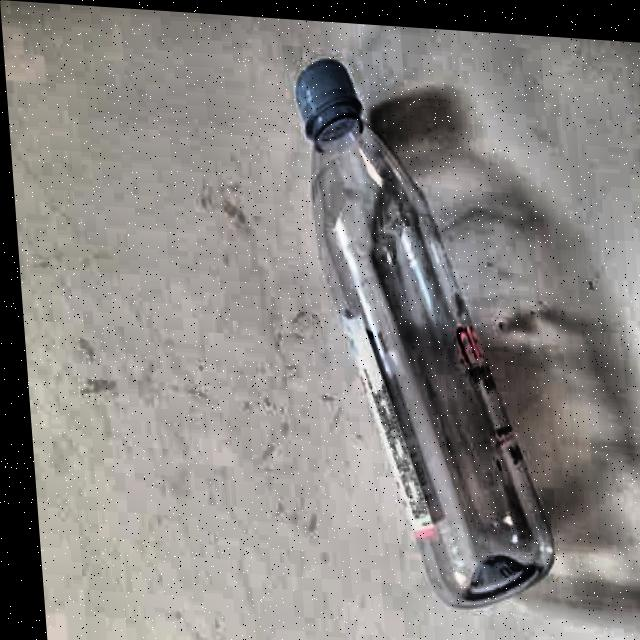plastic: (291, 55, 562, 615)
